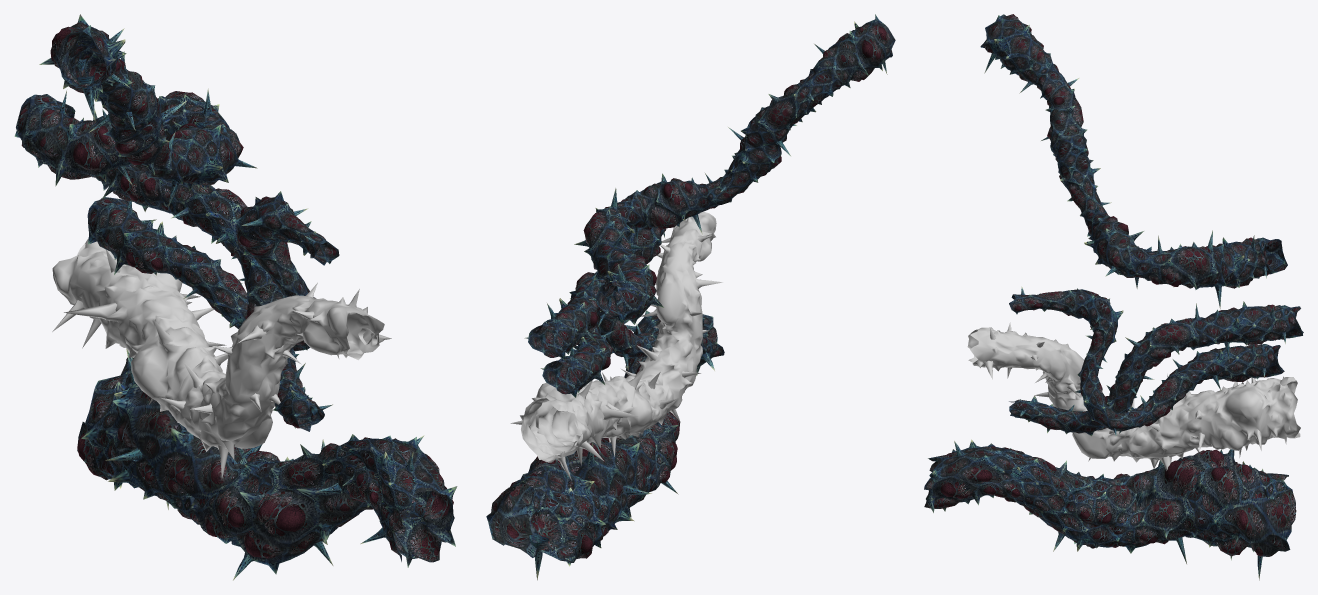
Rendered from backup.fbx.
3 renders of one model, left to right at view 1: azimuth 30°, elevation 25°; view 2: azimuth 150°, elevation 25°; view 3: azimuth 270°, elevation 25°, orthographic. The views are drawn at different scales.
Parts seen in each view (by area): view 1: LODGroup_1_MainMesh_1_SubMesh_4, LODGroup_1_MainMesh_1_SubMesh_1, LODGroup_1_MainMesh_1_SubMesh_2, LODGroup_1_MainMesh_1_SubMesh_3; view 2: LODGroup_1_MainMesh_1_SubMesh_4, LODGroup_1_MainMesh_1_SubMesh_1, LODGroup_1_MainMesh_1_SubMesh_2, LODGroup_1_MainMesh_1_SubMesh_3; view 3: LODGroup_1_MainMesh_1_SubMesh_4, LODGroup_1_MainMesh_1_SubMesh_2, LODGroup_1_MainMesh_1_SubMesh_1, LODGroup_1_MainMesh_1_SubMesh_3.
Boxes of the visible parts, <box> form: LODGroup_1_MainMesh_1_SubMesh_4: <box>14,14,339,431</box>; LODGroup_1_MainMesh_1_SubMesh_1: <box>52,238,391,478</box>; LODGroup_1_MainMesh_1_SubMesh_2: <box>105,349,455,580</box>; LODGroup_1_MainMesh_1_SubMesh_3: <box>77,374,457,574</box>; LODGroup_1_MainMesh_1_SubMesh_4: <box>524,14,895,397</box>; LODGroup_1_MainMesh_1_SubMesh_1: <box>510,211,722,480</box>; LODGroup_1_MainMesh_1_SubMesh_2: <box>486,325,714,580</box>; LODGroup_1_MainMesh_1_SubMesh_3: <box>520,310,724,566</box>; LODGroup_1_MainMesh_1_SubMesh_4: <box>980,14,1303,436</box>; LODGroup_1_MainMesh_1_SubMesh_2: <box>924,441,1296,580</box>; LODGroup_1_MainMesh_1_SubMesh_1: <box>967,322,1300,470</box>; LODGroup_1_MainMesh_1_SubMesh_3: <box>924,439,1263,560</box>.
Size of the model in its own units: 794 by 1416 by 1023.
